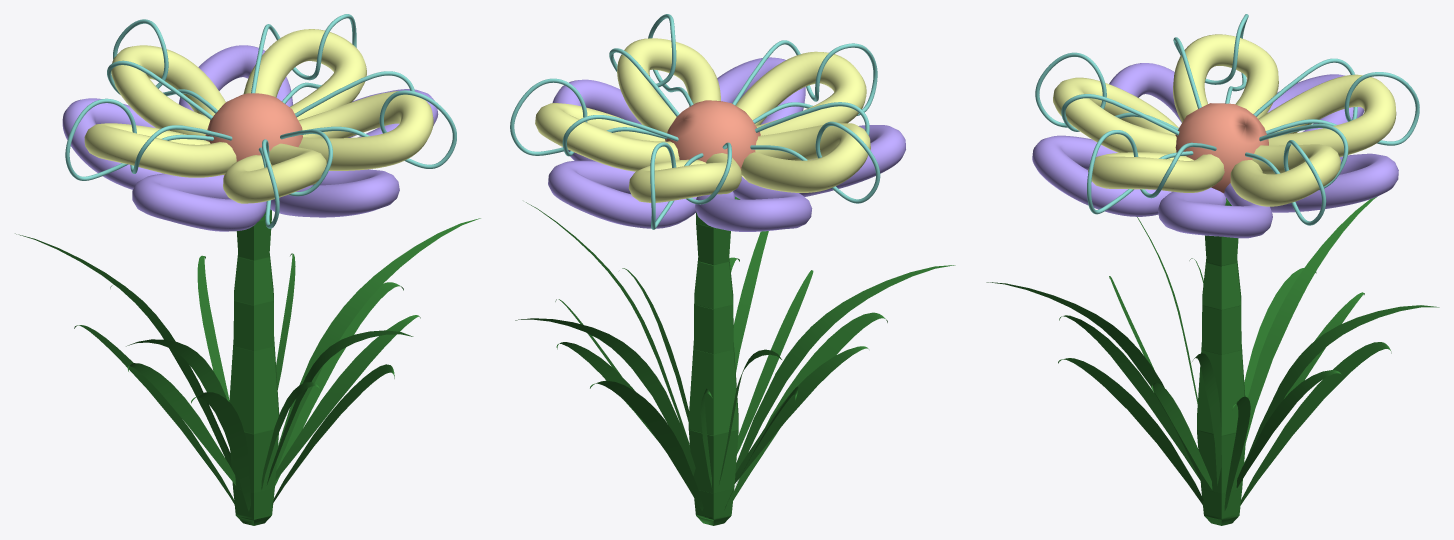
Rendered from alienflower.fbx.
3 views of the same model, side by side, from view 1: azimuth 30°, elevation 25°; view 2: azimuth 150°, elevation 25°; view 3: azimuth 270°, elevation 25° (orthographic). The views are drawn at different scales.
Visible parts, largest first — view 1: alienflower; view 2: alienflower; view 3: alienflower.
Boxes of the visible parts, x1,y1,x2,y2 form: alienflower: (15,14,480,525); alienflower: (510,14,955,525); alienflower: (986,14,1439,525).
Bounding box in the file's own units: 1271 × 1359 × 1281.
